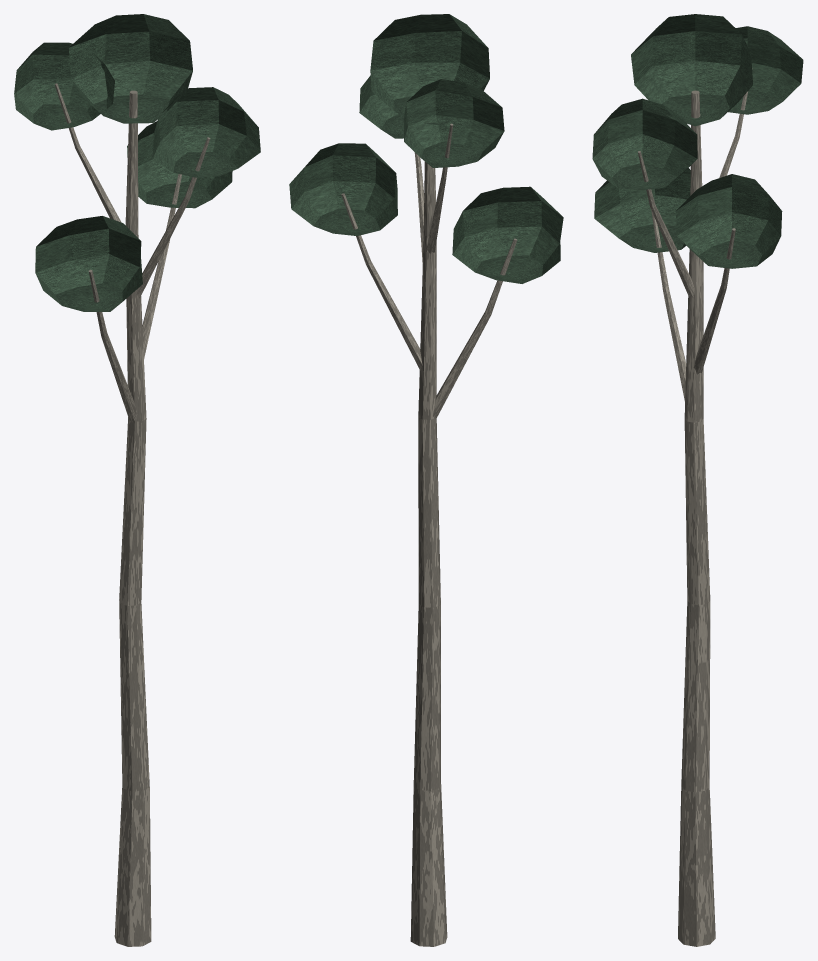
File: tree_eucalyptus.glb
3 renders of one model, left to right at view 1: azimuth 30°, elevation 25°; view 2: azimuth 150°, elevation 25°; view 3: azimuth 270°, elevation 25°, orthographic.
Parts seen in each view (by area): view 1: tree_eucalyptus; view 2: tree_eucalyptus; view 3: tree_eucalyptus.
Part boxes in pixels (left/top/right/bottom): tree_eucalyptus: left=14, top=14, right=260, bottom=946; tree_eucalyptus: left=289, top=14, right=563, bottom=946; tree_eucalyptus: left=592, top=14, right=803, bottom=946.
Bounding box in the file's own units: 3.72 × 15 × 3.12.
Materials: 1 (1 with a texture image).
